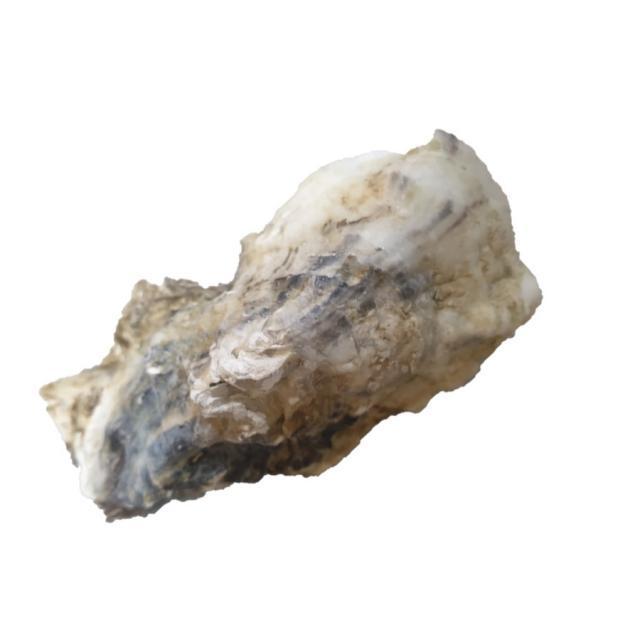Oyster- Indeterminate: (37, 130, 545, 524)
